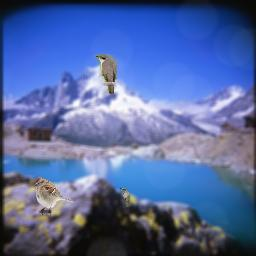Cuckoo: (95, 54, 117, 94), (120, 188, 130, 207)
Sparrow: (34, 177, 74, 215)
